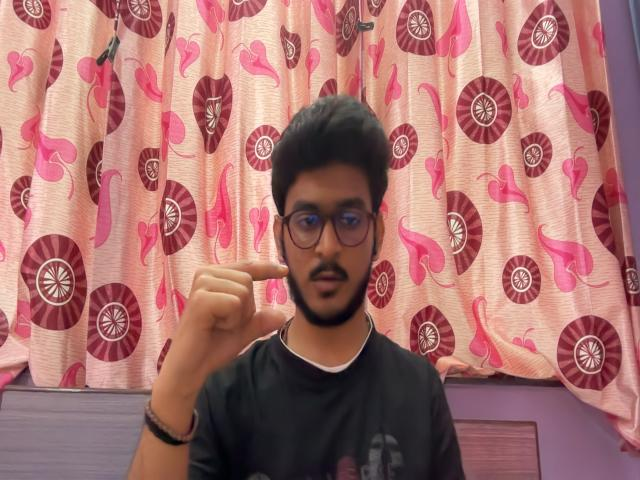No: (152, 238, 310, 415)
